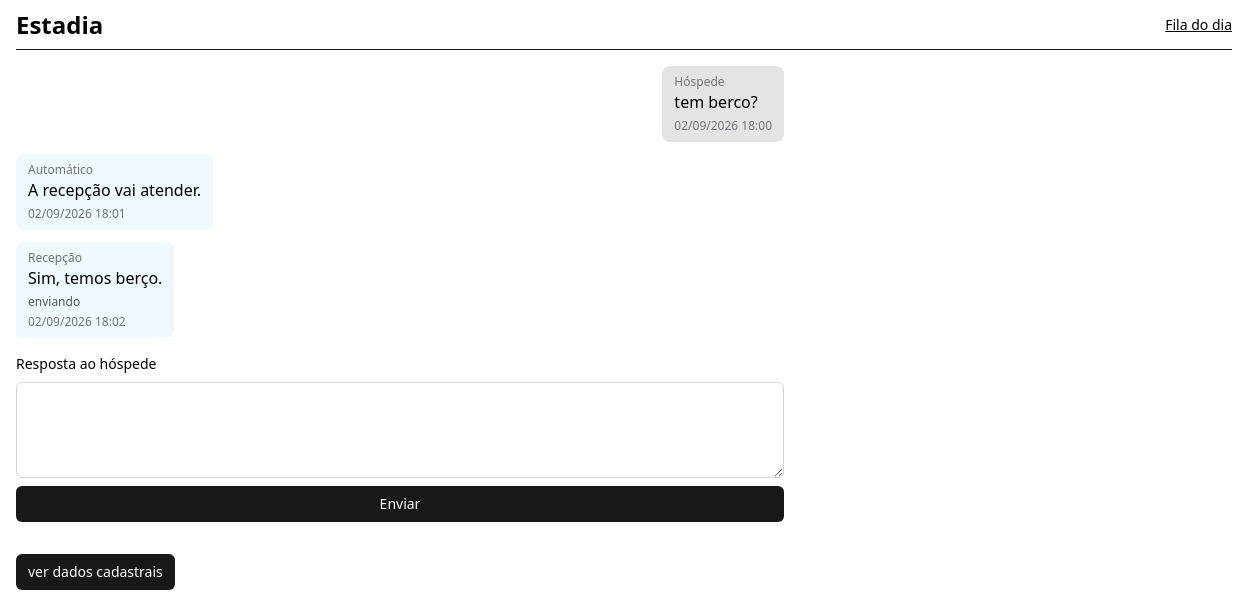
Test case: TelaEstadia › Enviar fica inerte durante o POST e Enter não dispara envio
In the text box labelled "Resposta ao hóspede": (400, 430) top-left (16, 382), bottom-right (784, 478), type "Sim."
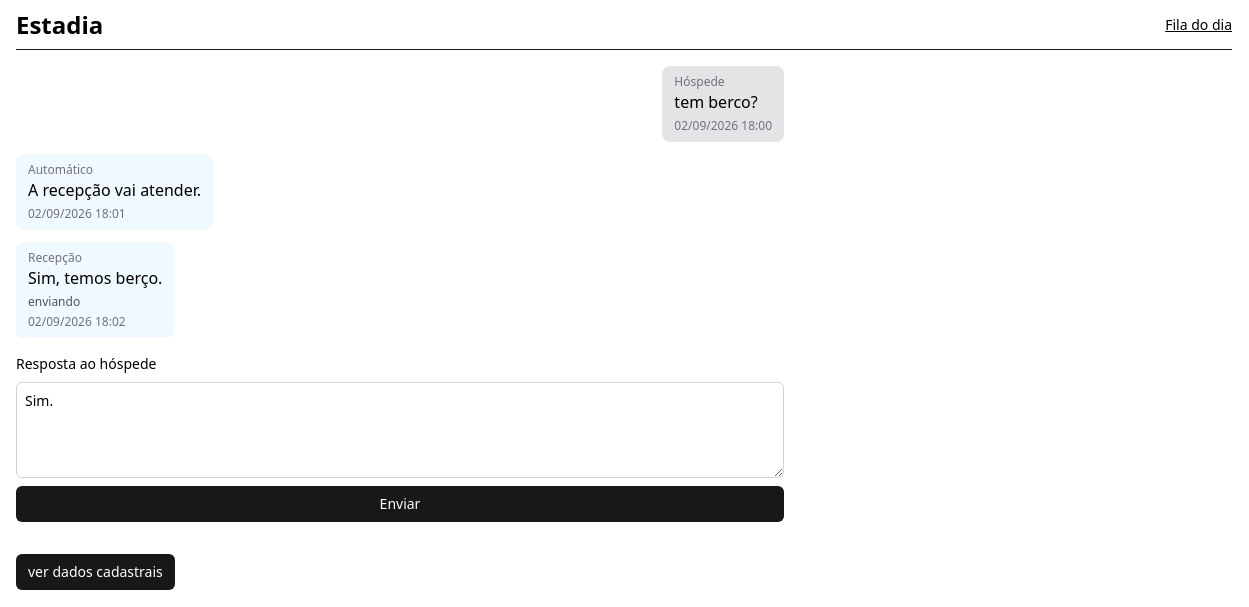
Press Enter in the text box labelled "Resposta ao hóspede", box top-left (16, 382), bottom-right (784, 478)
Click the button "Enviar": (400, 504) top-left (16, 486), bottom-right (784, 522)
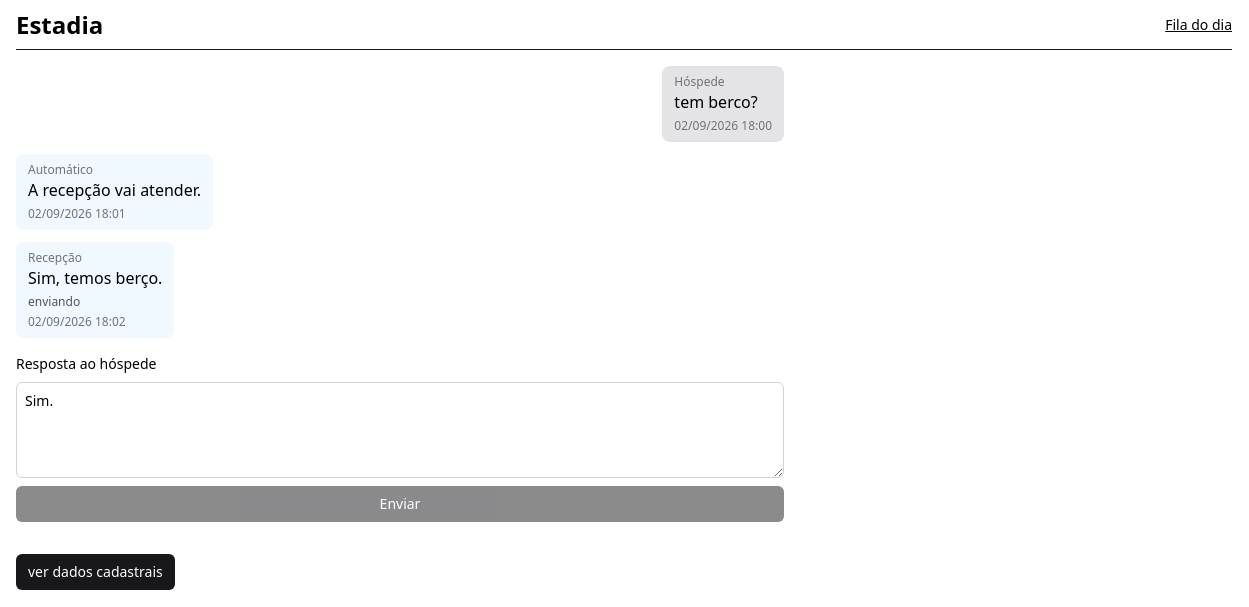
Expected: the button "Enviar" is disabled
Click the button "Enviar": (400, 504) top-left (16, 486), bottom-right (784, 522)
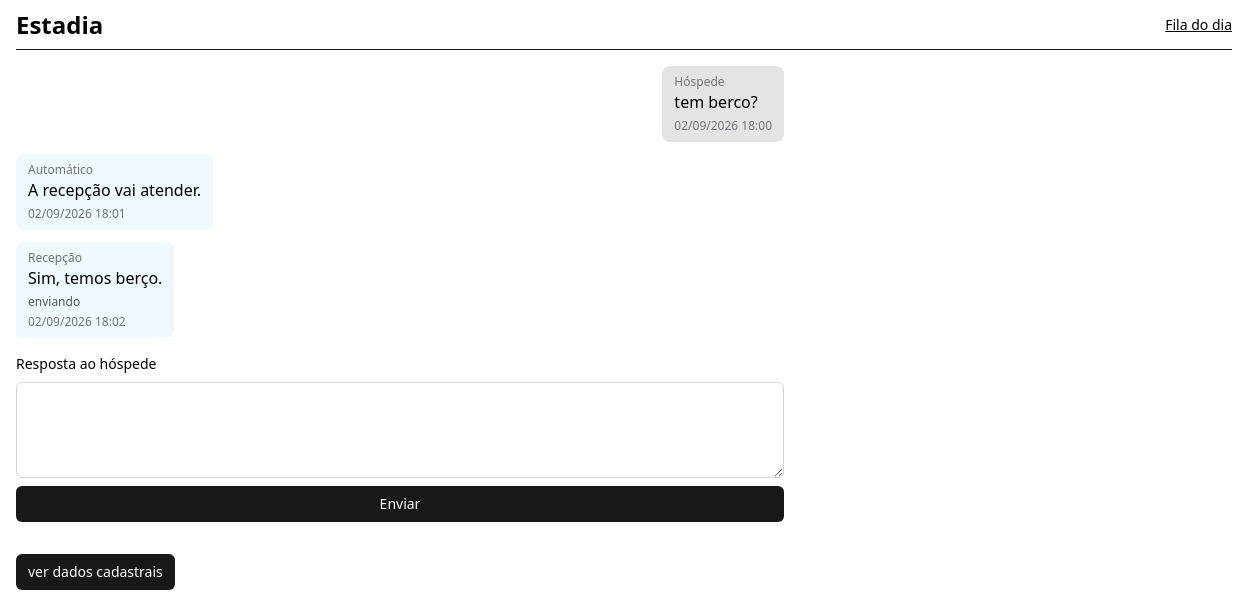
Expected: the button "Enviar" is enabled, top-left (16, 486), bottom-right (784, 522)
